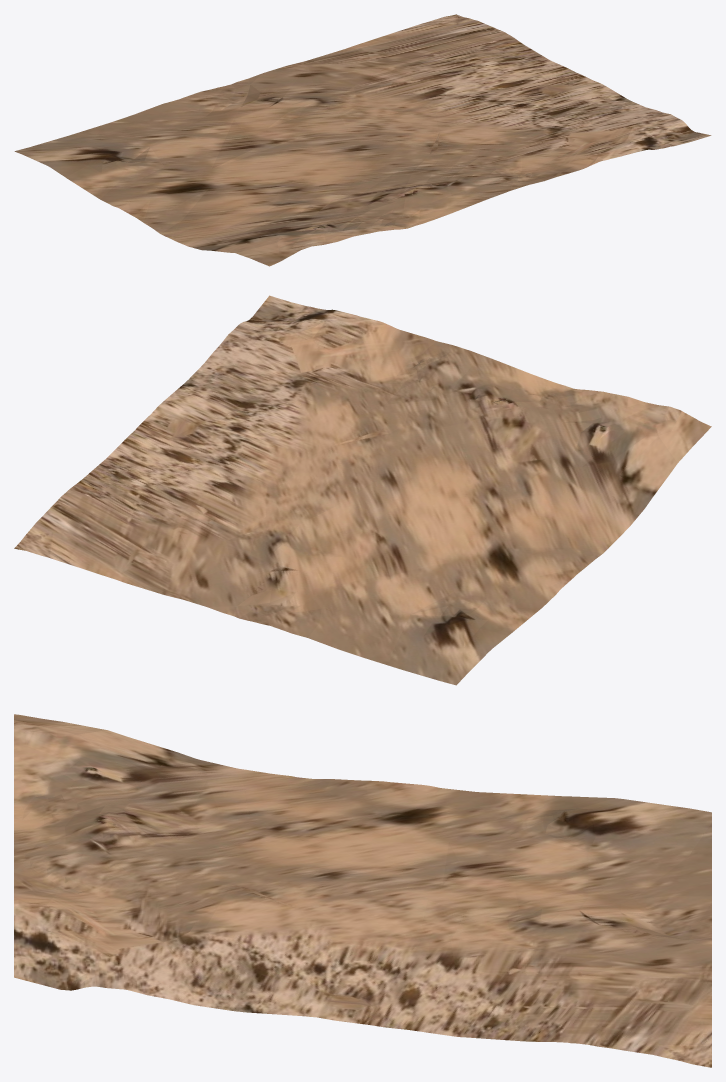
3 views of the same model, one above another, from view 1: azimuth 30°, elevation 25°; view 2: azimuth 150°, elevation 25°; view 3: azimuth 270°, elevation 25° (orthographic). The views are drawn at different scales.
Bounding box in the file's own units: 4.18 × 0.8705 × 4.18.
3 materials, 3 textured.
